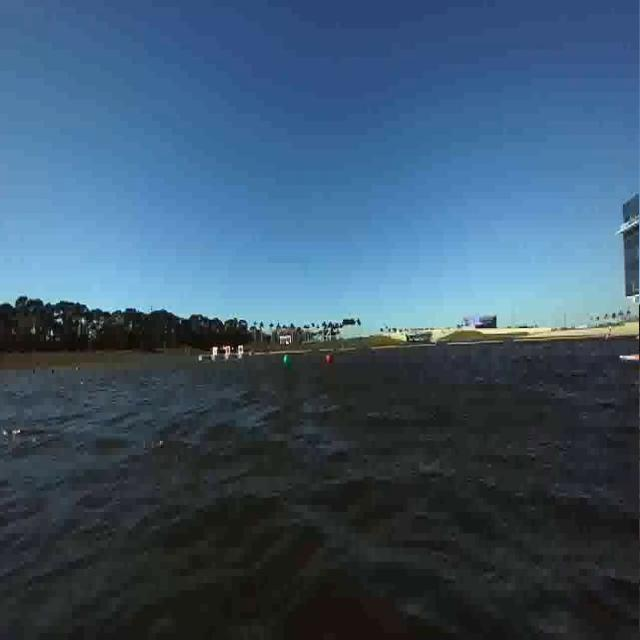green-buoy: (284, 354, 292, 368)
red-buoy: (329, 355, 334, 362)
